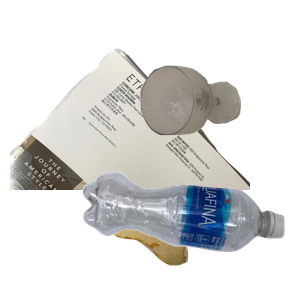glass: (138, 63, 300, 191)
paper: (10, 46, 250, 226)
plastic: (80, 169, 300, 300)
trash: (96, 181, 277, 300)
